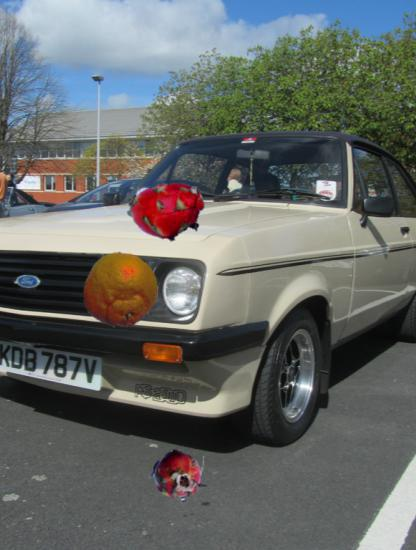Mandarine: (82, 252, 159, 329)
Pitahaya: (127, 171, 206, 250), (148, 445, 210, 507)
